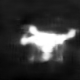plane: (18, 23, 80, 65)
